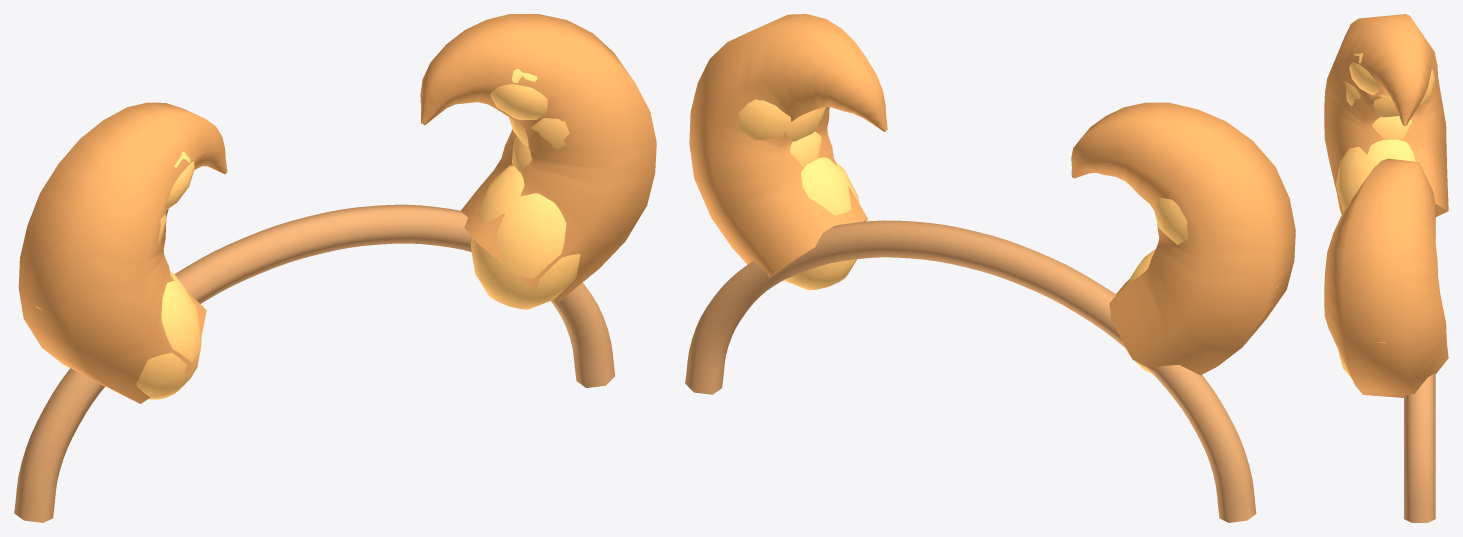
File: croissant_band.glb
3 views of the same model, side by side, from view 1: azimuth 30°, elevation 25°; view 2: azimuth 150°, elevation 25°; view 3: azimuth 270°, elevation 25° (orthographic). The views are drawn at different scales.
Visible parts, largest first — view 1: Croissant Curls; view 2: Croissant Curls; view 3: Croissant Curls.
Part boxes in pixels (x1,y1,x2,y2): Croissant Curls: (14,14,656,522); Croissant Curls: (685,14,1295,522); Croissant Curls: (1324,14,1448,522).
Bounding box in the file's own units: 1 × 0.6104 × 0.219.
